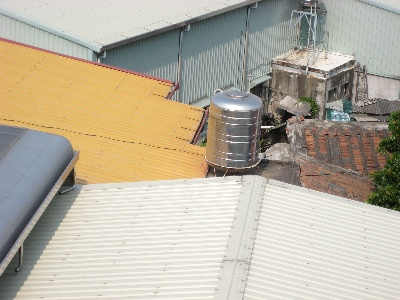water_tower: (204, 89, 263, 175)
